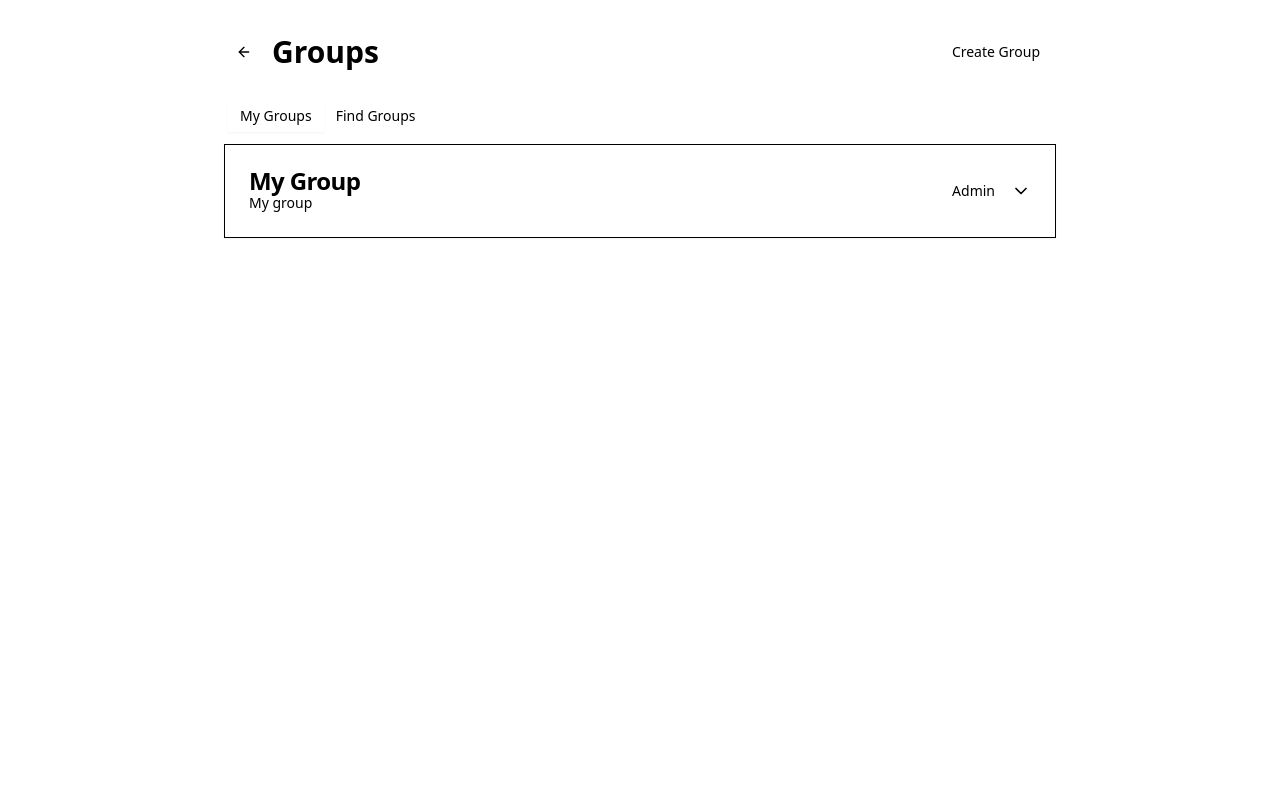
Scenario: GroupsPage › lists connections in Add Member dialog
Note: Expand group details
Click the text "My Group".
click(305, 181)  # box [249,169,360,193]
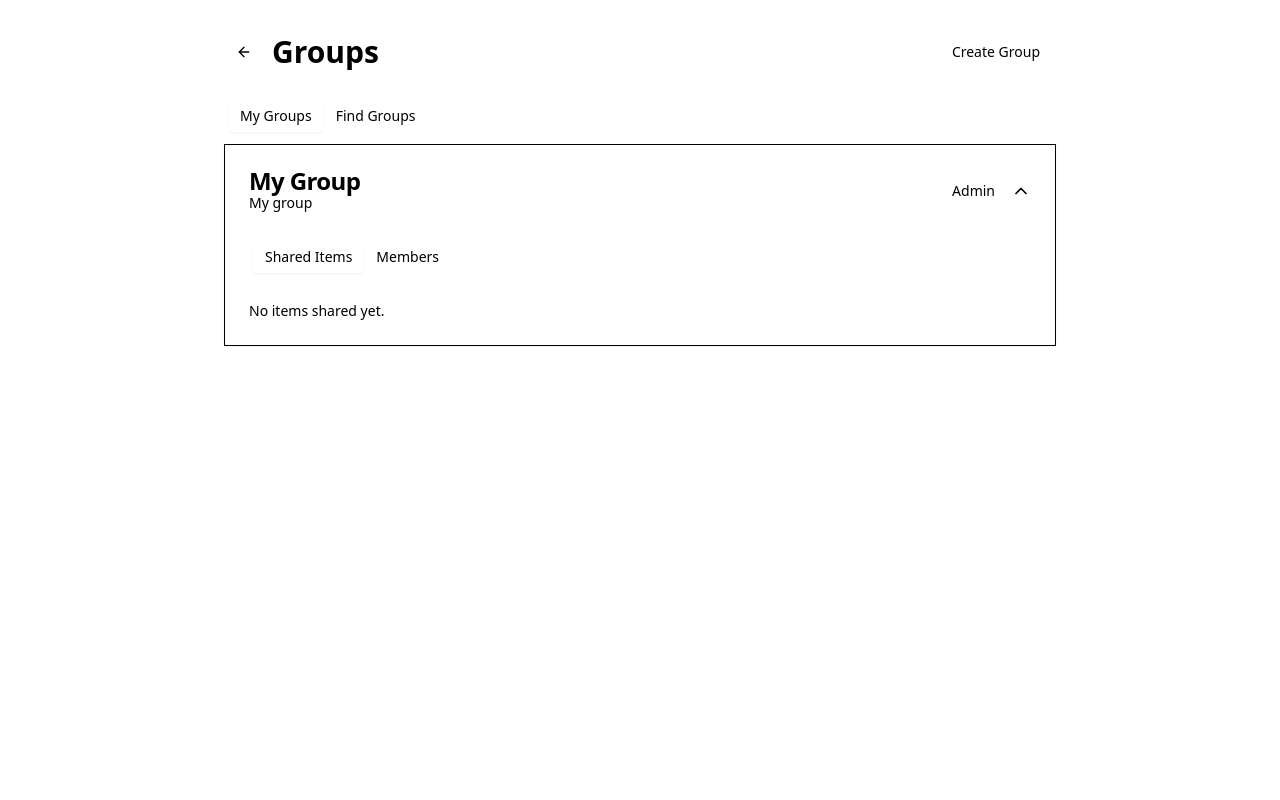
Note: Switch to Members tab
Click the tab "Members".
click(408, 257)  # box [364,241,451,273]
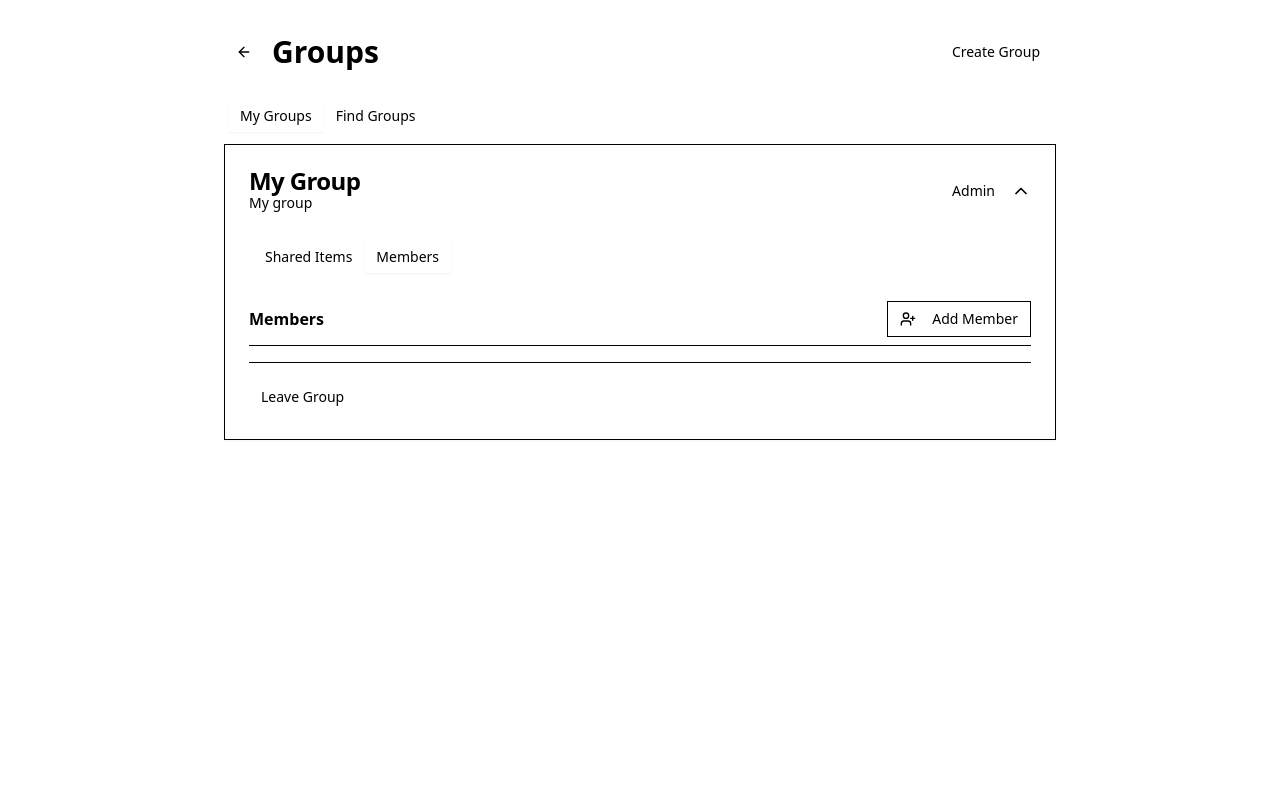
Note: Click Add Member
Click the button "Add Member".
click(959, 319)  # box [887,301,1031,337]
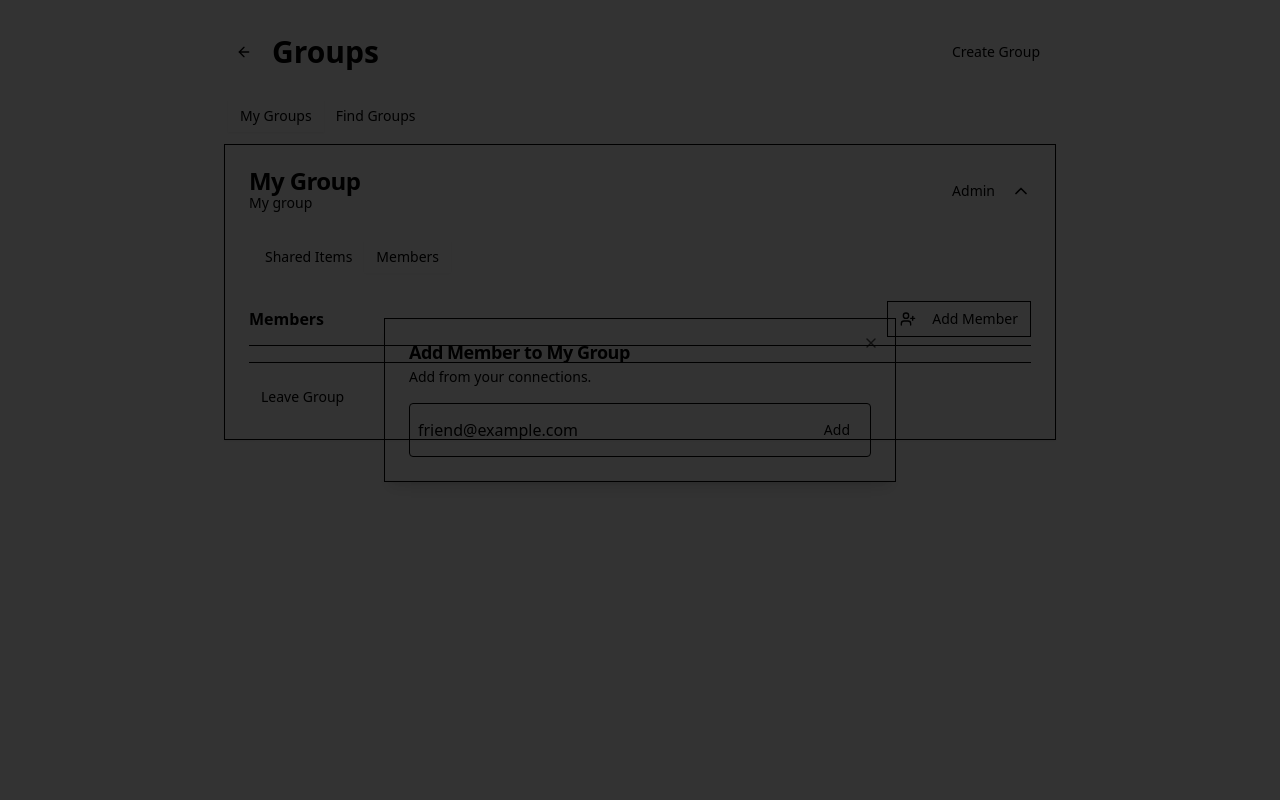
Check: the text "friend@example.com" is shown, box [418,418,578,442]
